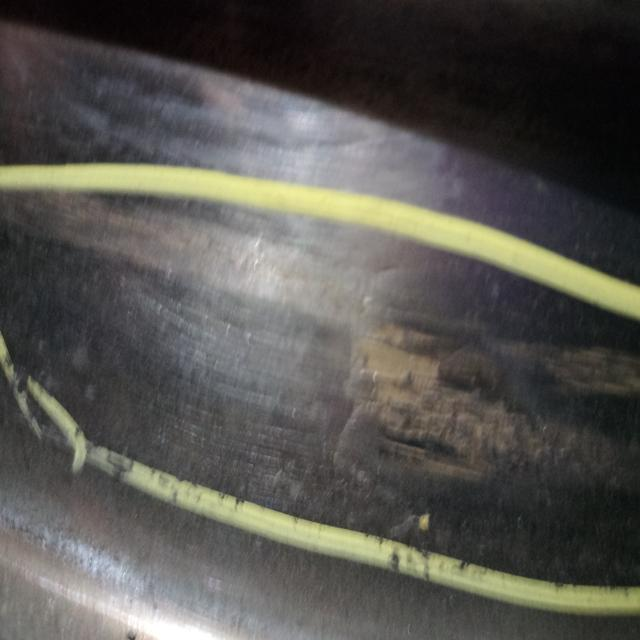Peeling: (327, 315, 639, 541)
